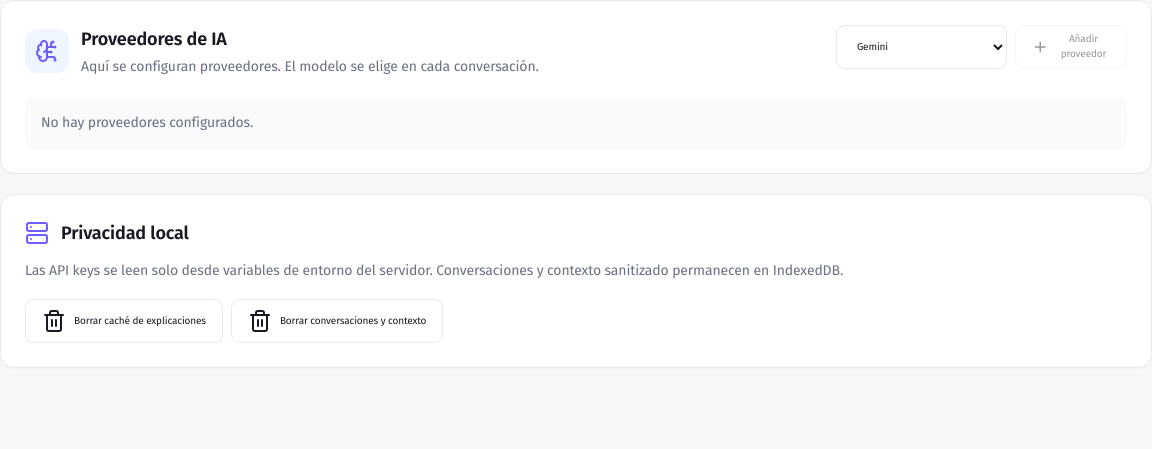
Scenario: Assistant provider settings › clears only the explanation cache from the IA settings surface
Click the button "Borrar caché de explicaciones" at (124, 321), box [25, 299, 223, 343]
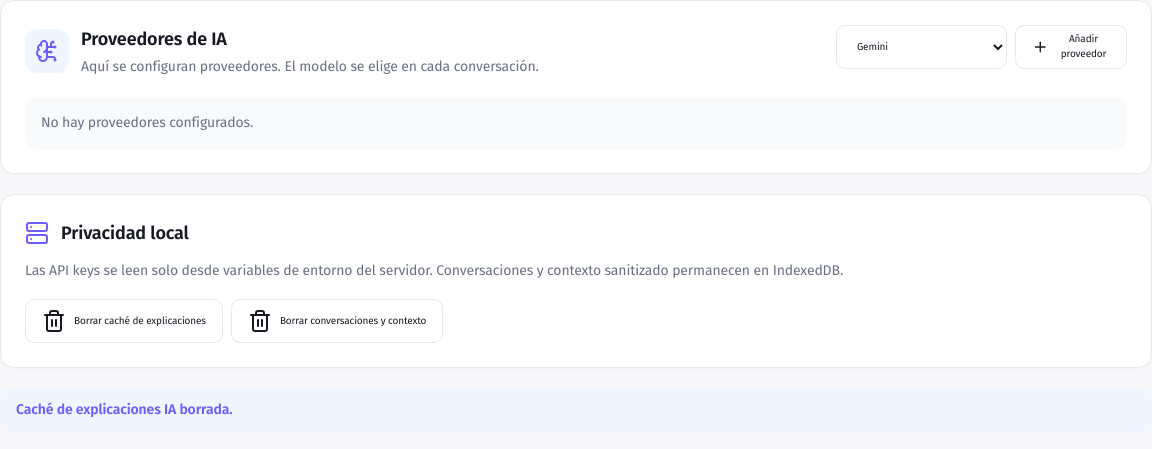
Check: the text "Caché de explicaciones IA borrada." is shown, box [0, 388, 1151, 432]
